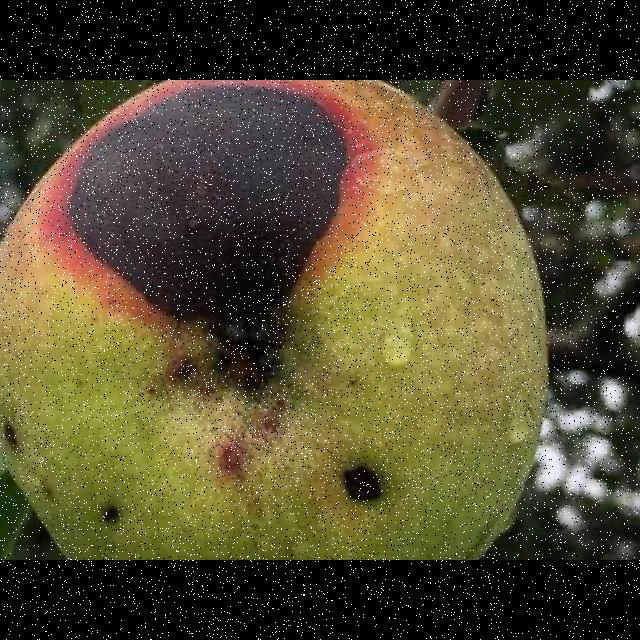Apel Tidak Segar: (1, 80, 556, 560)
